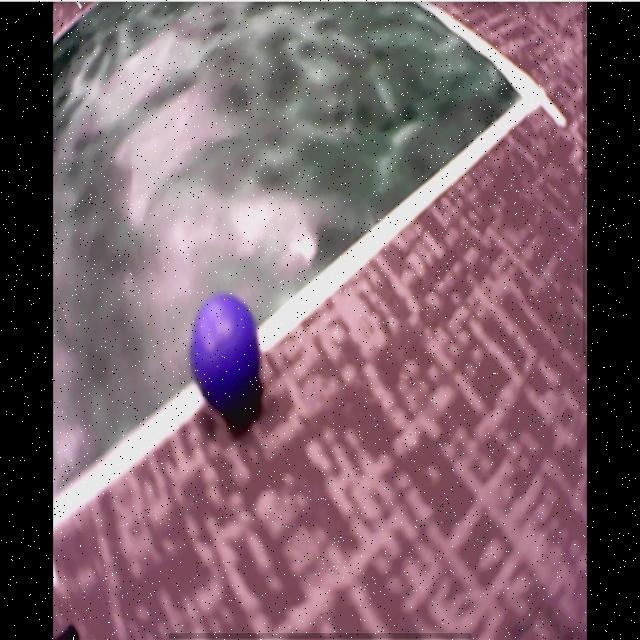ball: (192, 294, 258, 399)
